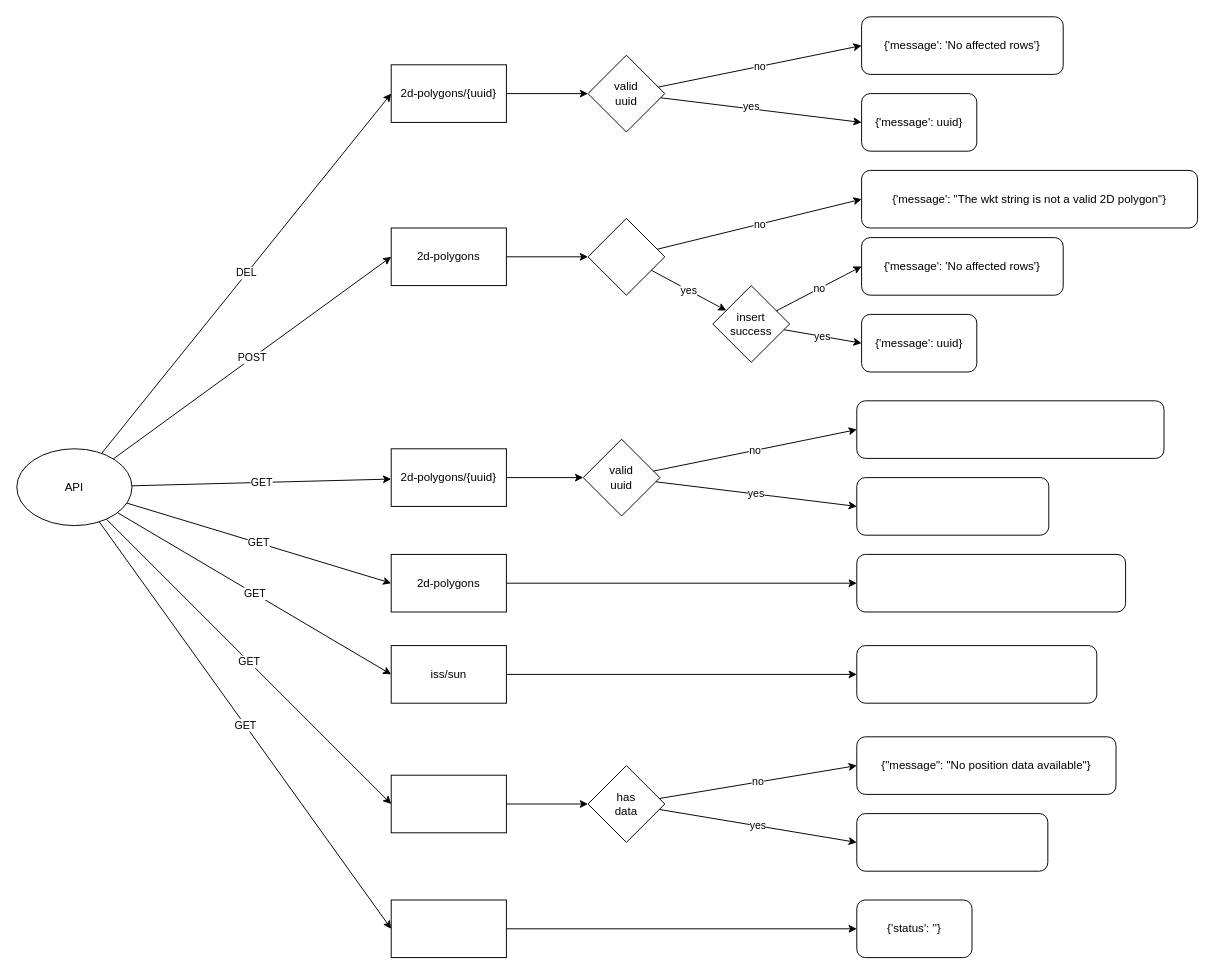
The diagram is 1214 pixels wide and 974 high, and some of its shapes have lost their labels. Each missing label, with the box of its shape:
health: (390, 899, 506, 958)
iss/position: (390, 774, 506, 833)
valid wkt: (587, 217, 665, 295)
{"message": "No polygon with the given uuid exists"}: (856, 400, 1164, 458)
{'latitude': '', 'longitude': ''}: (856, 813, 1048, 871)
{'polygons': [{'uuid': '', 'color': '', 'wkt': ''}]}: (856, 553, 1126, 612)
{'sun_exposures': [{'start': '', 'end': ''}]}: (856, 645, 1097, 703)
{'uuid': '', 'color': '', 'wkt': ''}: (856, 477, 1049, 535)
